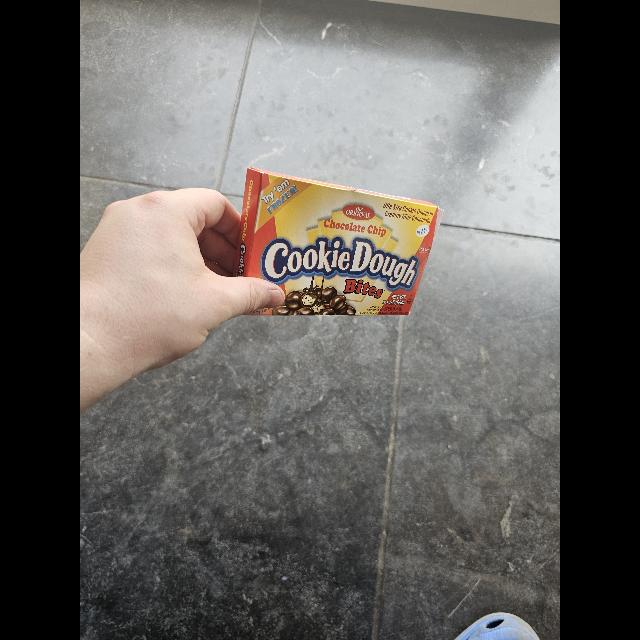Cardboard: (238, 165, 446, 337)
